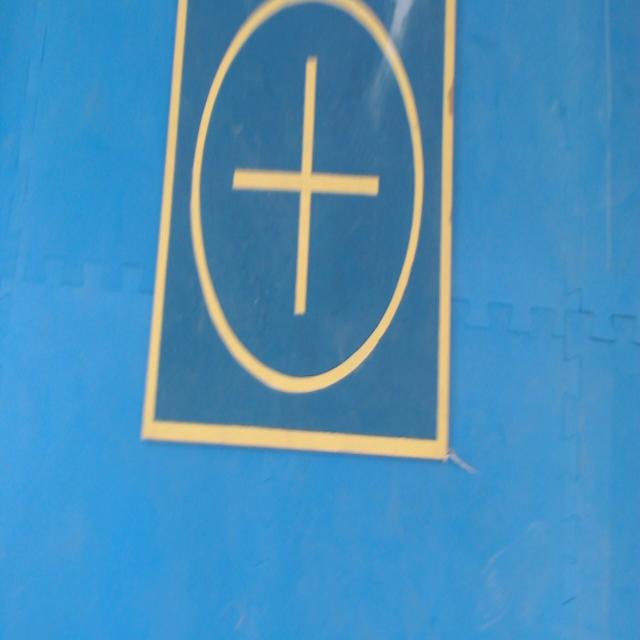base_pouso: (141, 0, 455, 462)
